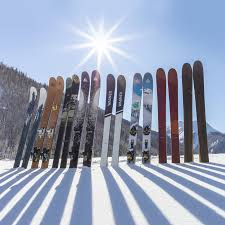skis: (69, 69, 102, 170), (31, 76, 65, 169), (180, 61, 210, 165), (51, 74, 82, 167), (12, 87, 46, 170), (127, 70, 154, 172), (98, 73, 127, 167), (155, 67, 182, 164)
